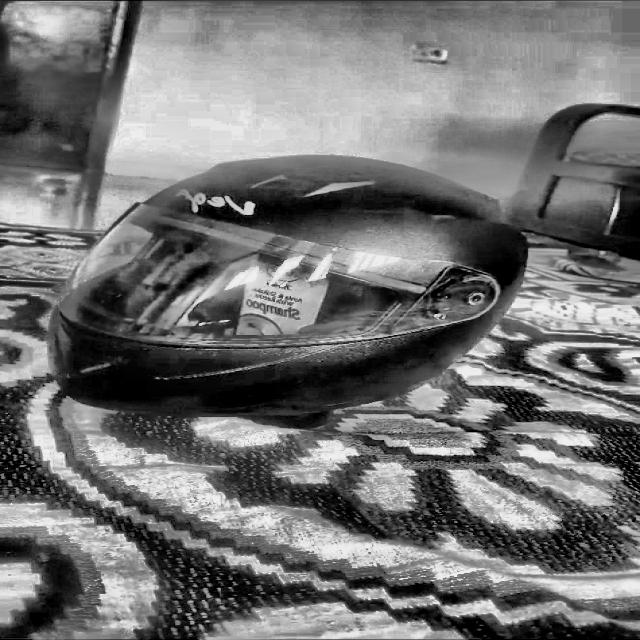Helmet: (21, 152, 533, 422)
